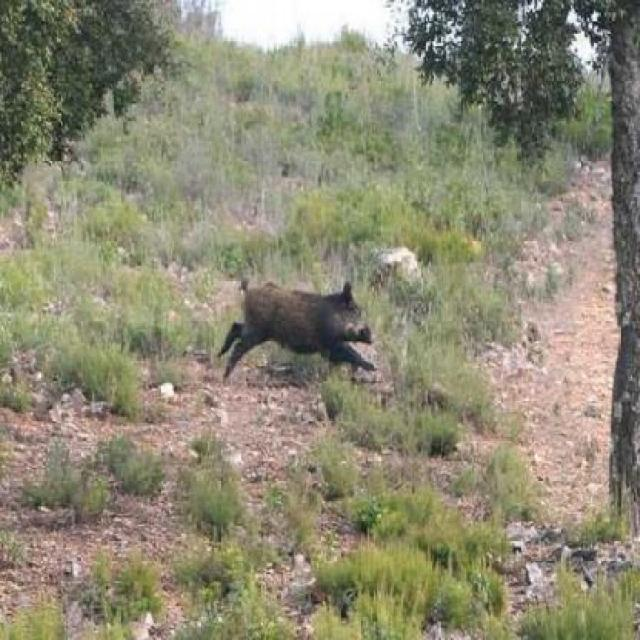pig: (215, 283, 398, 405)
